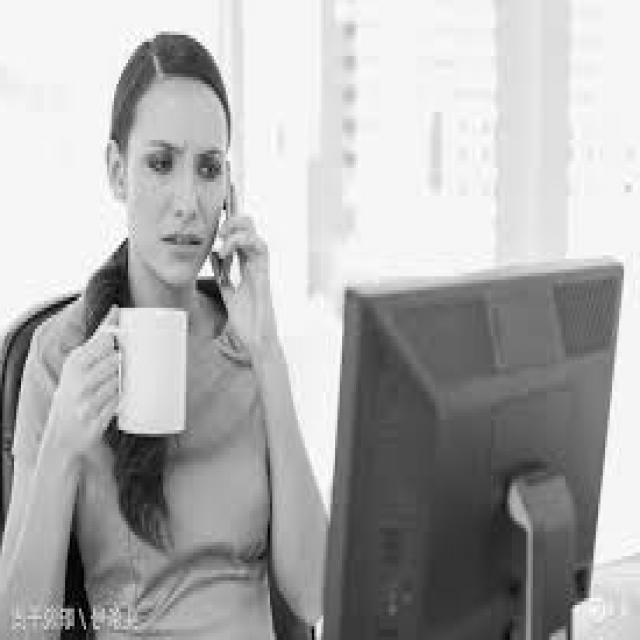phone: (188, 136, 296, 350)
